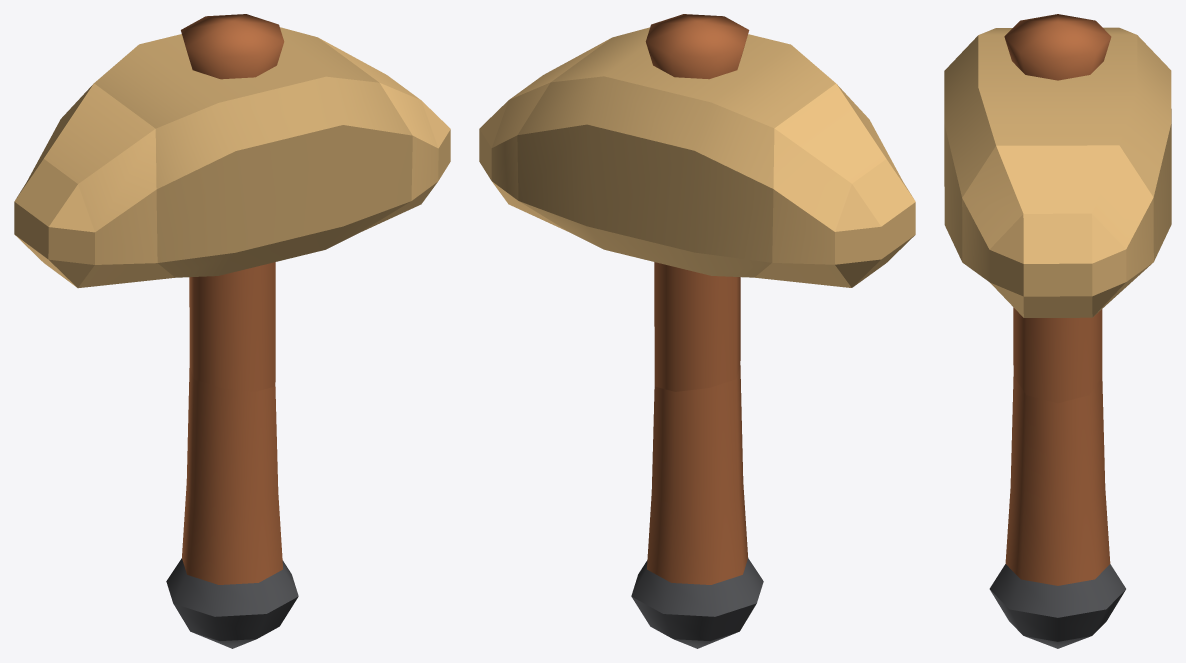
Rendered from Axe_RHand_8.fbx.
The picture shows the model from 3 angles, left to right: view 1: azimuth 30°, elevation 25°; view 2: azimuth 150°, elevation 25°; view 3: azimuth 270°, elevation 25°; orthographic projection.
Visible parts, largest first — view 1: Axe_RHand_8; view 2: Axe_RHand_8; view 3: Axe_RHand_8.
Boxes of the visible parts, x1=… form: Axe_RHand_8: x1=14, y1=14, x2=450, y2=648; Axe_RHand_8: x1=479, y1=14, x2=915, y2=648; Axe_RHand_8: x1=944, y1=14, x2=1171, y2=648.
Bounding box in the file's own units: 35.24 × 52.52 × 17.26.
